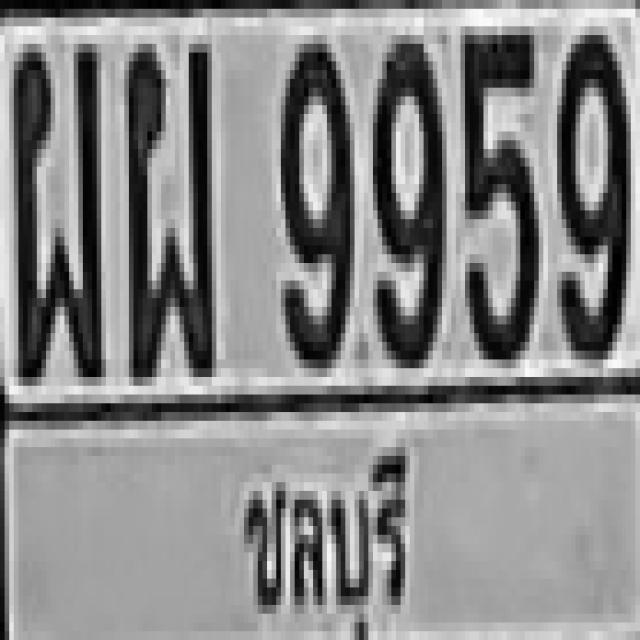37PhorPhueng: (7, 35, 99, 377), (120, 35, 212, 377)
5: (461, 27, 534, 360)
9: (276, 35, 350, 360), (368, 35, 442, 360), (553, 26, 626, 351)
Chonburi: (230, 434, 422, 640)
